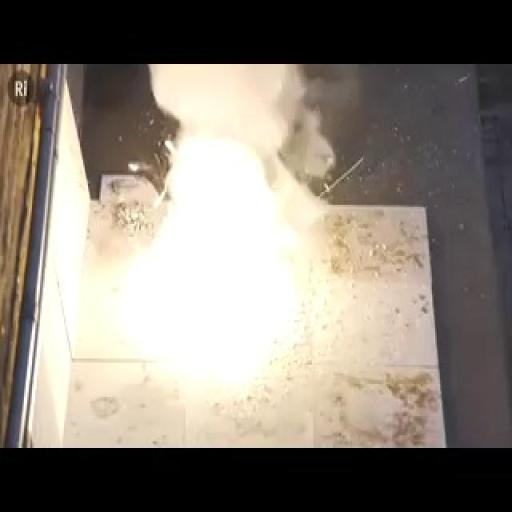smoke: (130, 134, 376, 390)
